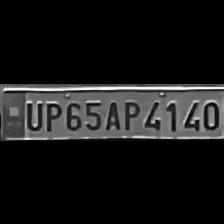0: (200, 97, 220, 128)
1: (162, 98, 178, 130)
4: (140, 98, 164, 130), (180, 98, 200, 130)
5: (82, 98, 102, 130)
6: (63, 98, 81, 130)
A: (102, 98, 120, 130)
P: (119, 96, 138, 130), (42, 98, 62, 130)
U: (22, 98, 42, 130)
